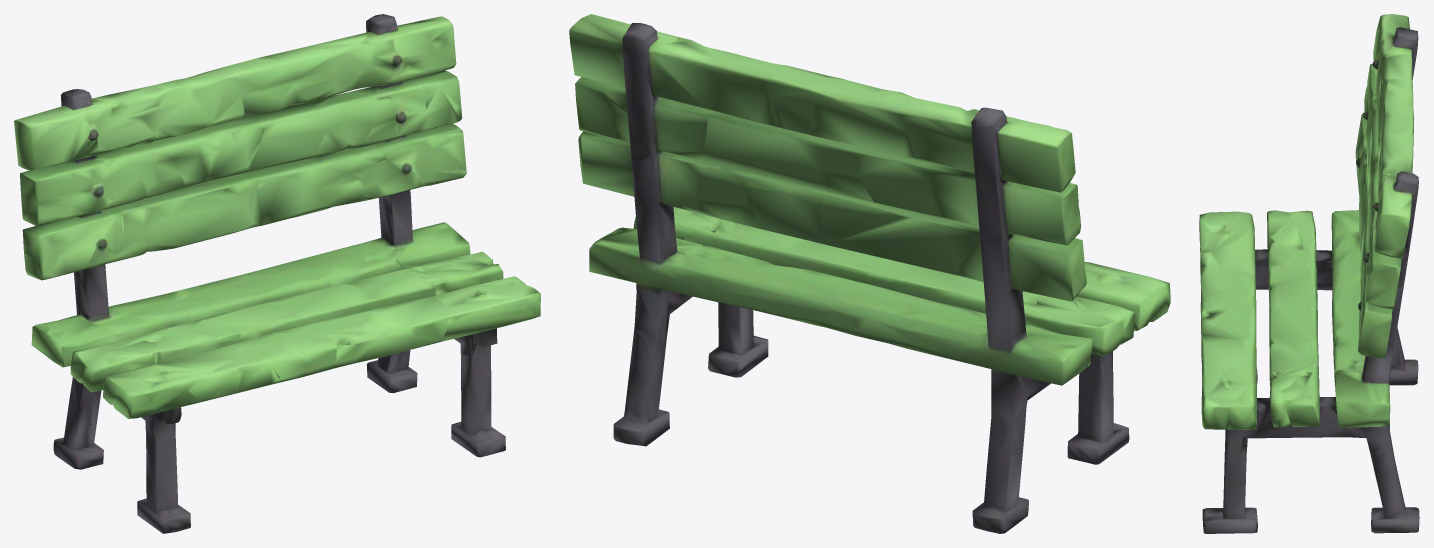
The model's file is bench.glb.
The picture shows the model from 3 angles, left to right: view 1: azimuth 30°, elevation 25°; view 2: azimuth 150°, elevation 25°; view 3: azimuth 270°, elevation 25°; orthographic projection. The views are drawn at different scales.
Parts seen in each view (by area): view 1: node_7f2fe044-af20-49c5-9a59-0a30e238a899; view 2: node_7f2fe044-af20-49c5-9a59-0a30e238a899; view 3: node_7f2fe044-af20-49c5-9a59-0a30e238a899.
Part boxes in pixels (x1=…): node_7f2fe044-af20-49c5-9a59-0a30e238a899: x1=14, y1=14, x2=540, y2=533; node_7f2fe044-af20-49c5-9a59-0a30e238a899: x1=569, y1=14, x2=1170, y2=533; node_7f2fe044-af20-49c5-9a59-0a30e238a899: x1=1199, y1=14, x2=1419, y2=533.
Size of the model in its own units: 0.9992 by 0.8049 by 0.4586.
1 material, 1 textured.
